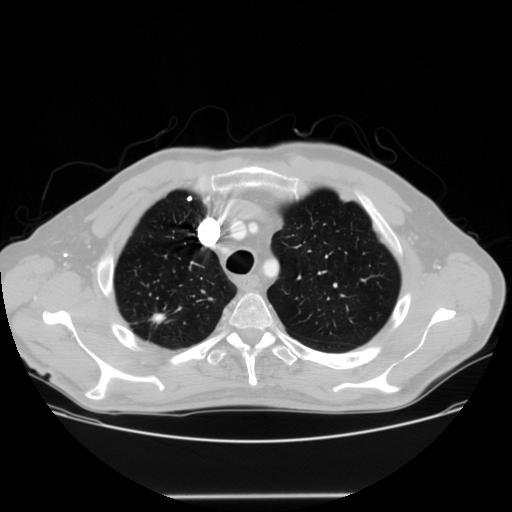nodule: (149, 308, 168, 327)
